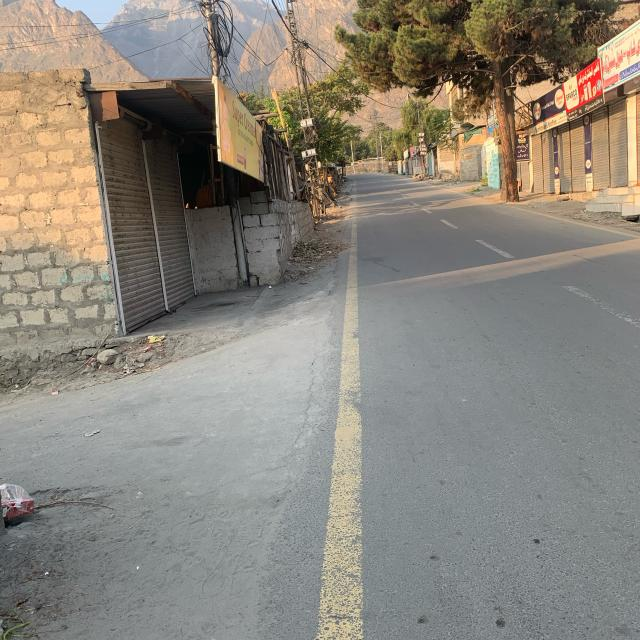Left-Turn: (77, 307, 358, 523)
straight: (362, 179, 522, 488)
